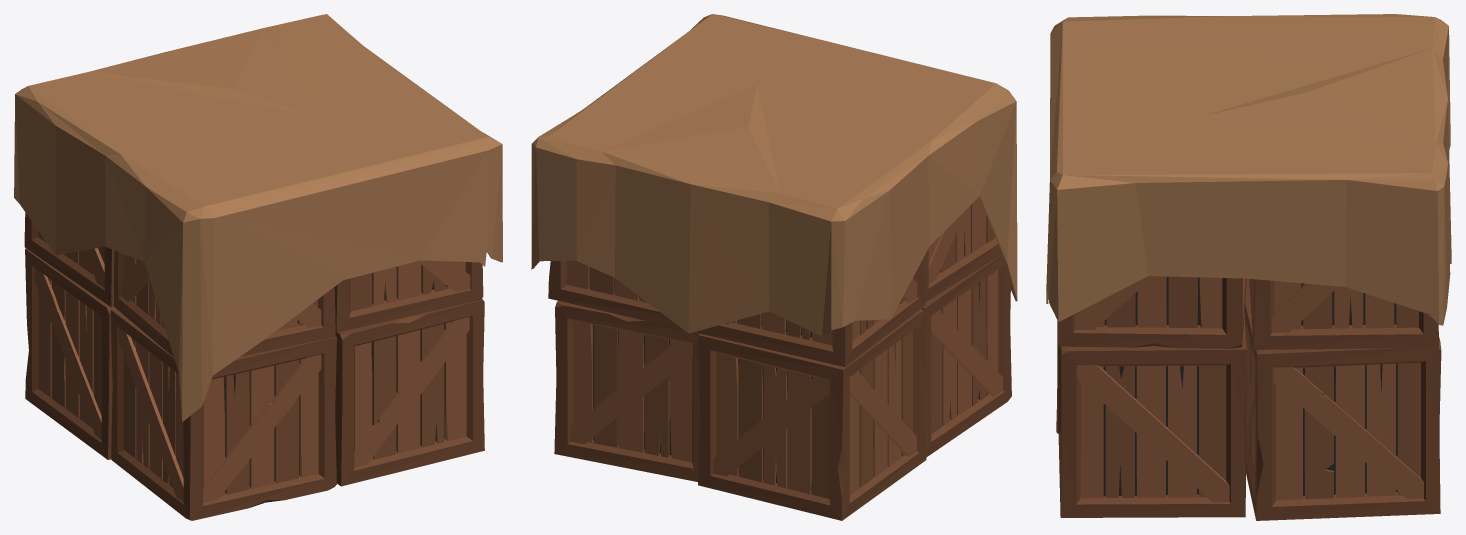
File: SM_Props_Box_02.glb
The picture shows the model from 3 angles, left to right: view 1: azimuth 30°, elevation 25°; view 2: azimuth 150°, elevation 25°; view 3: azimuth 270°, elevation 25°; orthographic projection. The views are drawn at different scales.
Parts seen in each view (by area): view 1: SM_Props_Box_02; view 2: SM_Props_Box_02; view 3: SM_Props_Box_02.
Part boxes in pixels (left/top/right/bottom): SM_Props_Box_02: left=14, top=14, right=502, bottom=520; SM_Props_Box_02: left=531, top=14, right=1017, bottom=520; SM_Props_Box_02: left=1046, top=14, right=1451, bottom=520.
Size of the model in its own units: 2.06 by 1.96 by 2.06.
Materials: 1 (1 with a texture image).
